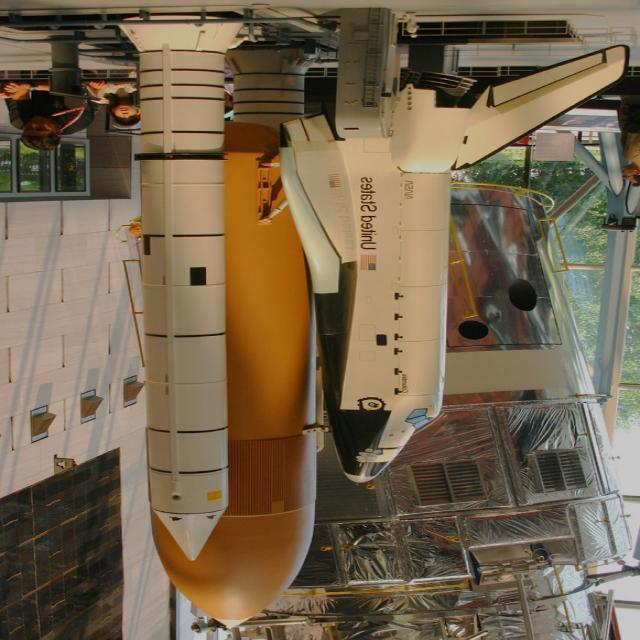Missile: (134, 23, 243, 574)
